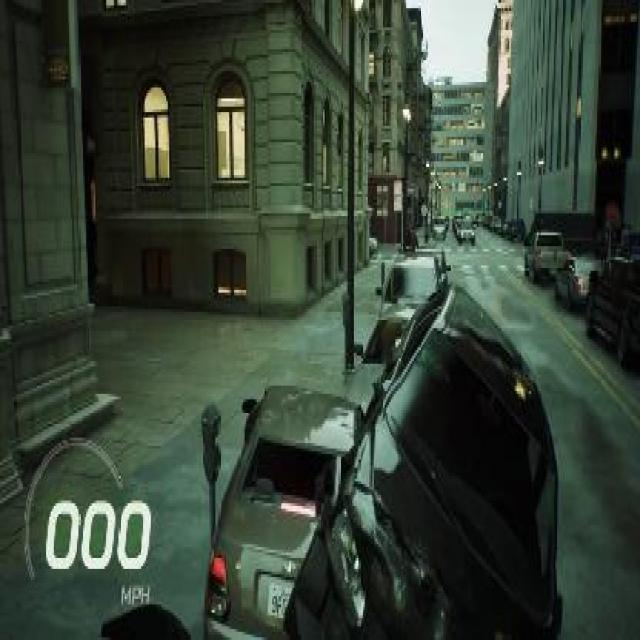accident: (197, 243, 571, 638)
